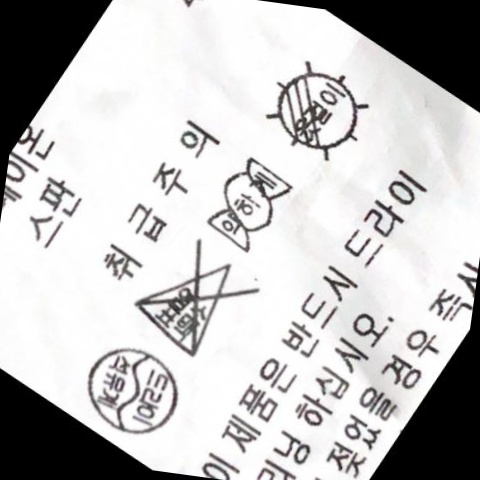dry_clean_petrol_only: (80, 341, 192, 440)
line_dry_in_shade: (261, 61, 373, 166)
non_chlorine_bleach: (135, 241, 249, 361)
wring: (205, 157, 300, 256)
